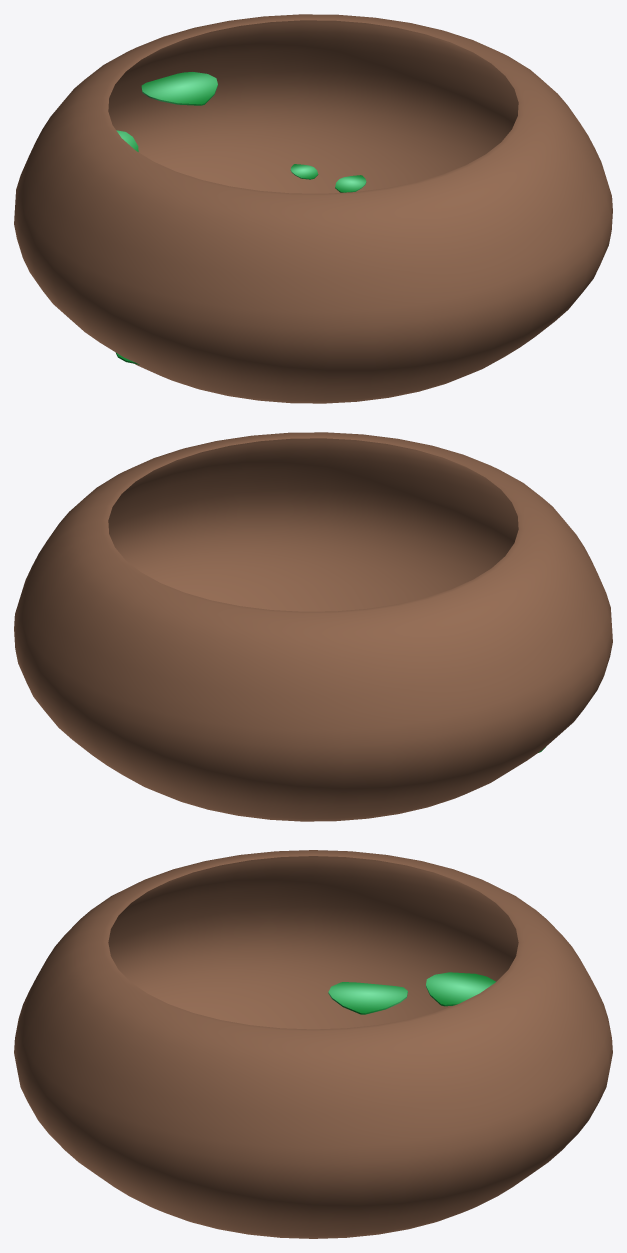
The model's file is TEST_Bowl_Arena.fbx.
3 views of the same model, one above another, from view 1: azimuth 30°, elevation 25°; view 2: azimuth 150°, elevation 25°; view 3: azimuth 270°, elevation 25° (orthographic).
Parts seen in each view (by area): view 1: Bowl_Arena, Leaf_027; view 2: Bowl_Arena; view 3: Bowl_Arena, Leaf_023, Leaf_024.
Boxes of the visible parts, box(x1,y1,x2,y2) form: Bowl_Arena: box(14, 14, 612, 403); Leaf_027: box(141, 72, 217, 105); Bowl_Arena: box(14, 432, 612, 821); Bowl_Arena: box(14, 850, 612, 1238); Leaf_023: box(328, 982, 407, 1014); Leaf_024: box(426, 972, 495, 1006).
Size of the model in its own units: 90.16 by 35.13 by 90.16.
Materials: 3 (2 with a texture image).
